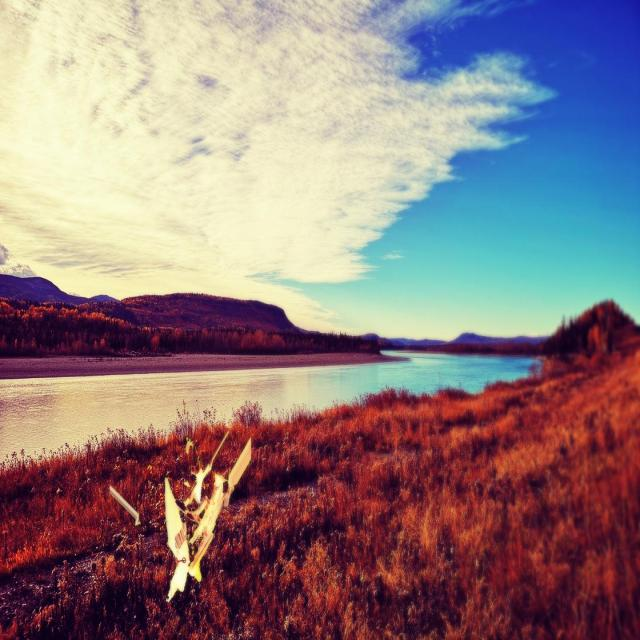airplane: (108, 430, 252, 604)
